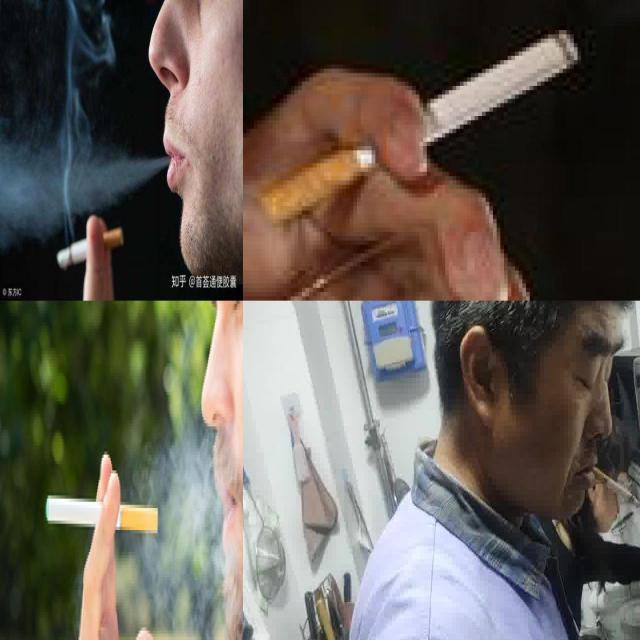smoking: (262, 25, 578, 224), (45, 493, 158, 534), (56, 227, 125, 271), (590, 465, 640, 508)
